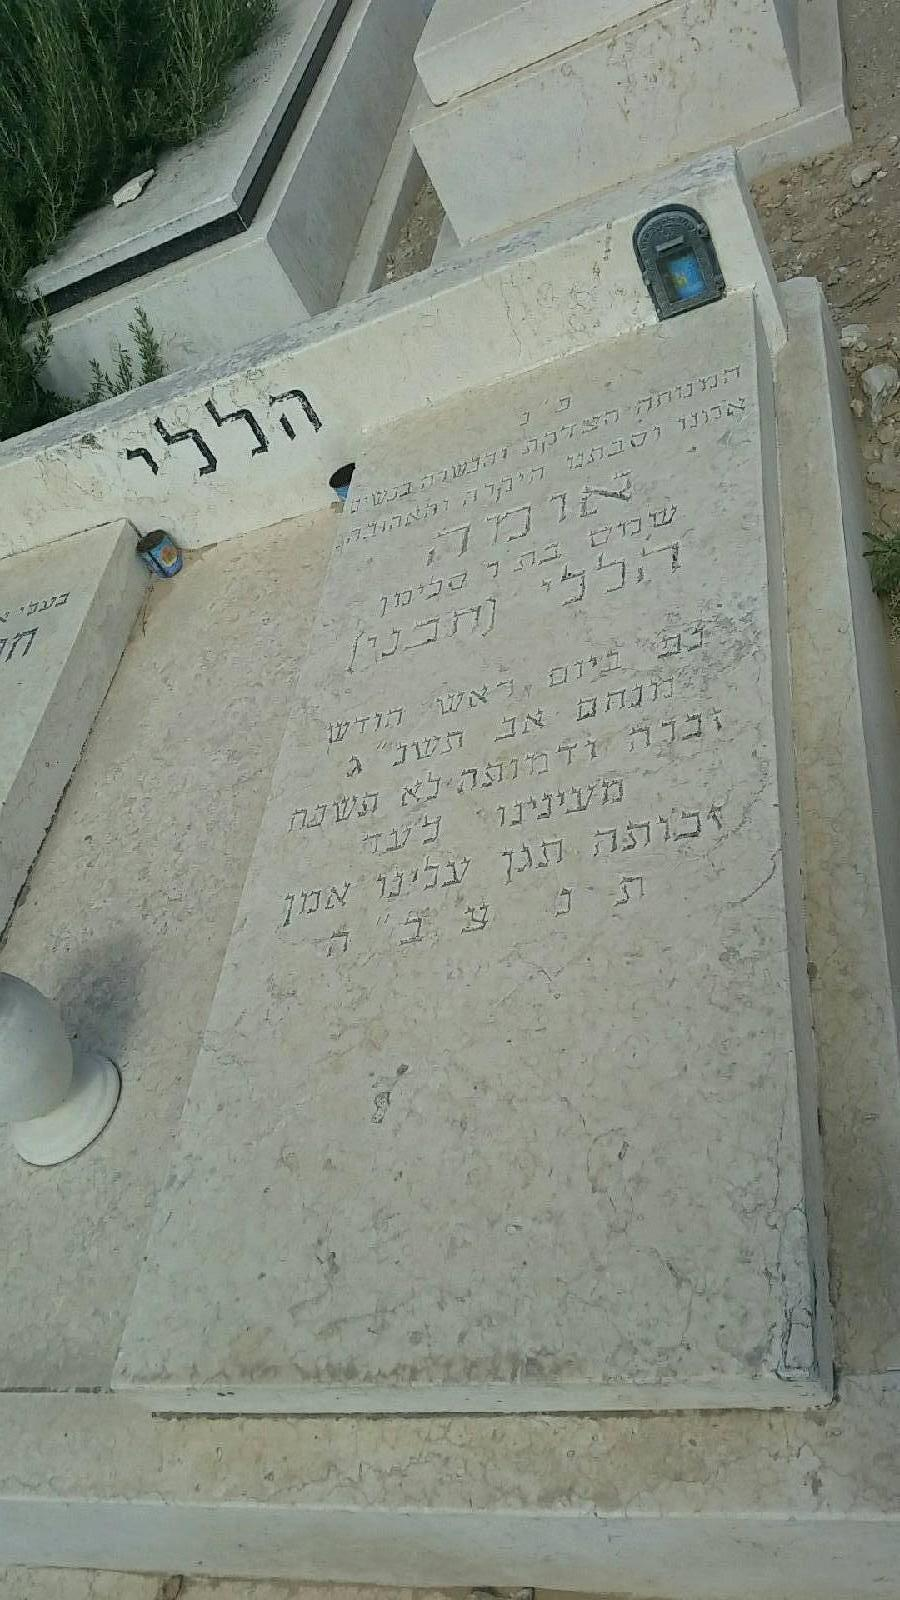vault: (3, 131, 900, 1559)
